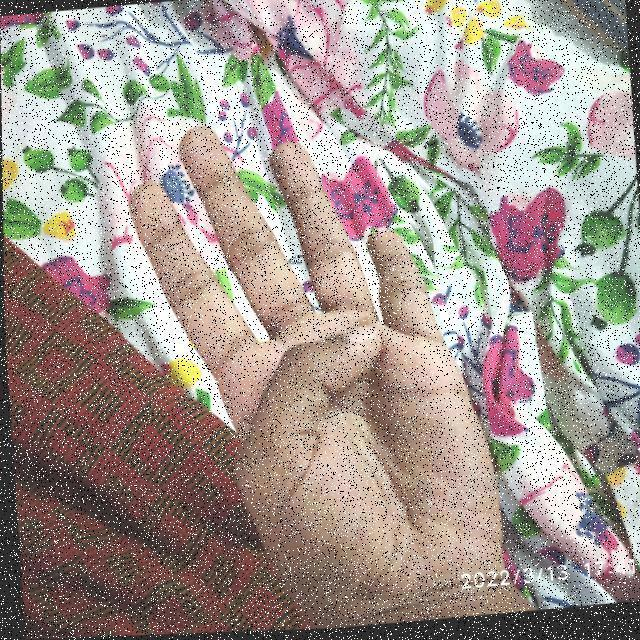hand: (113, 101, 525, 631)
